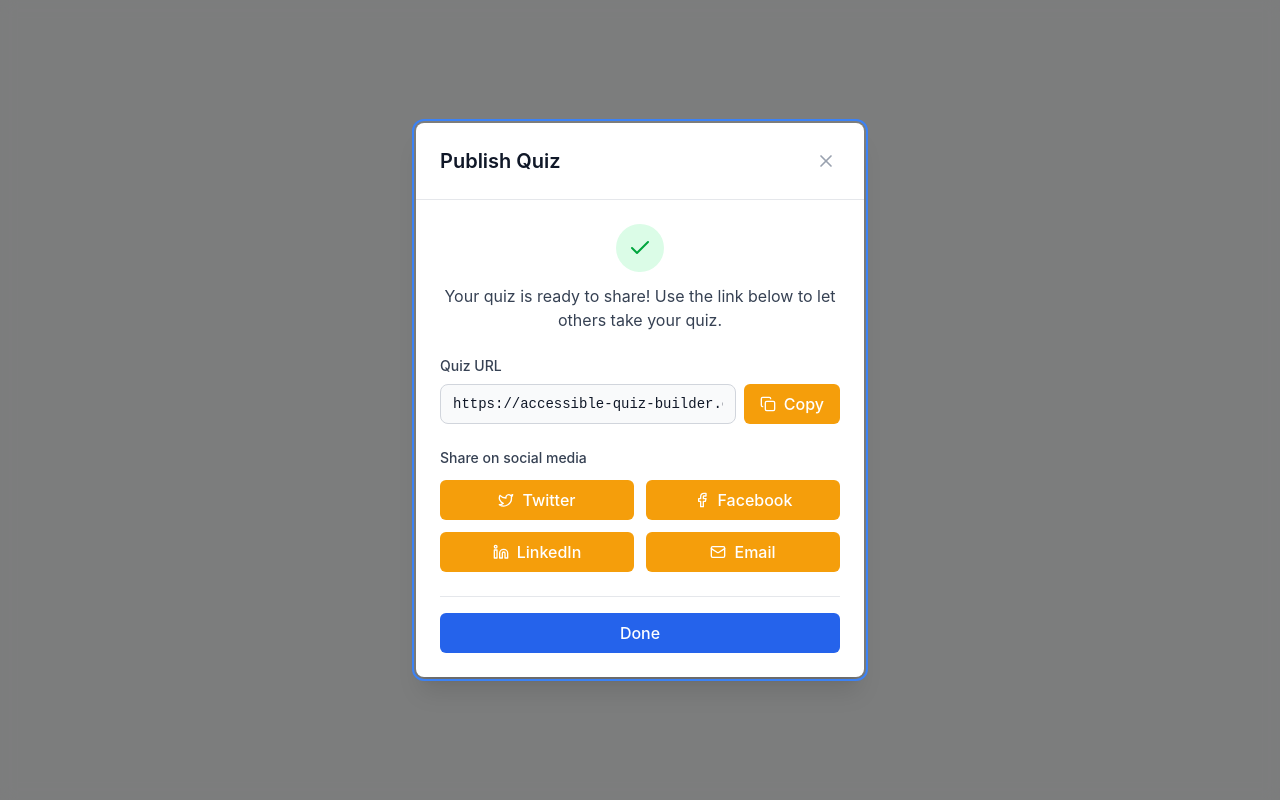
Test: PublishModal › Accessibility › should update aria-label when URL is copied
What coordinates should you click on to do the following:
click the button with aria-label "copy url to clipboard"
I would click on:
 (792, 404)
Its box is 744,384 -> 840,424.
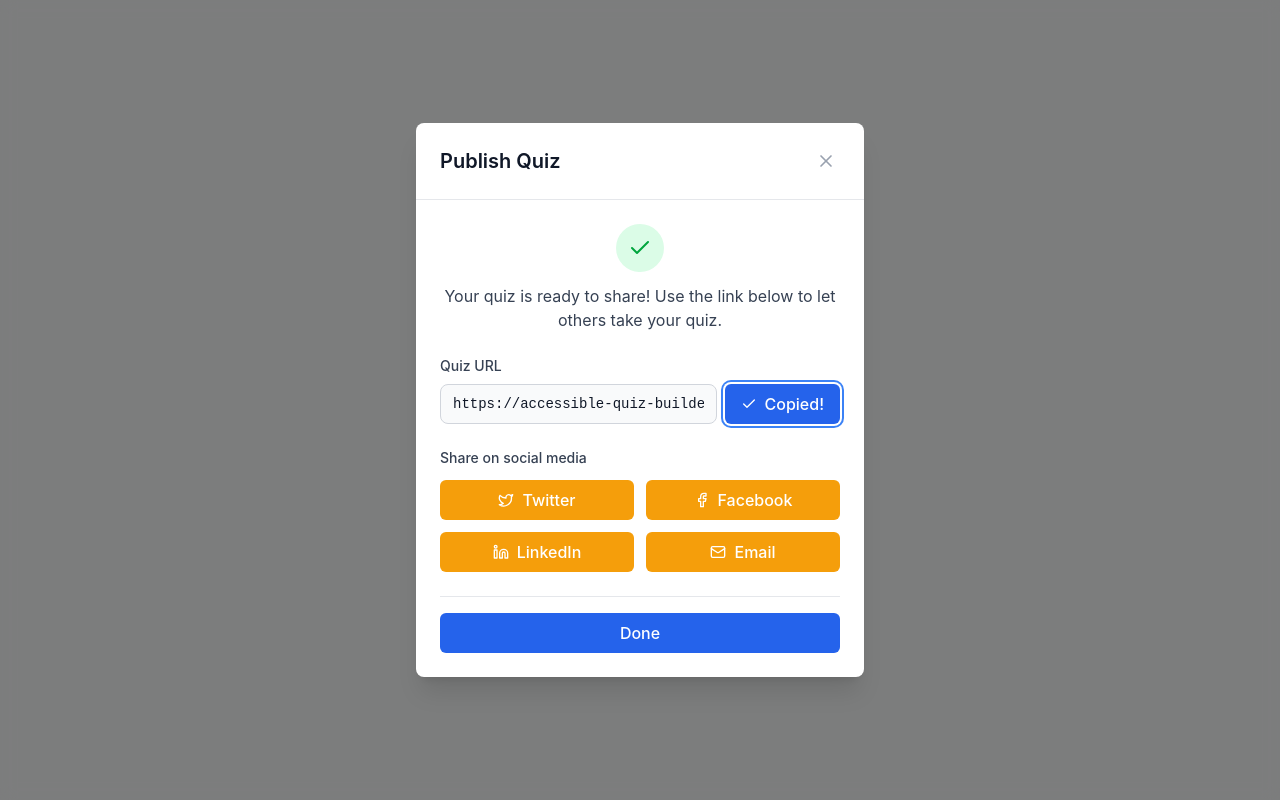
expect the button with aria-label "url copied" is shown: met, box 724,384 -> 840,424
